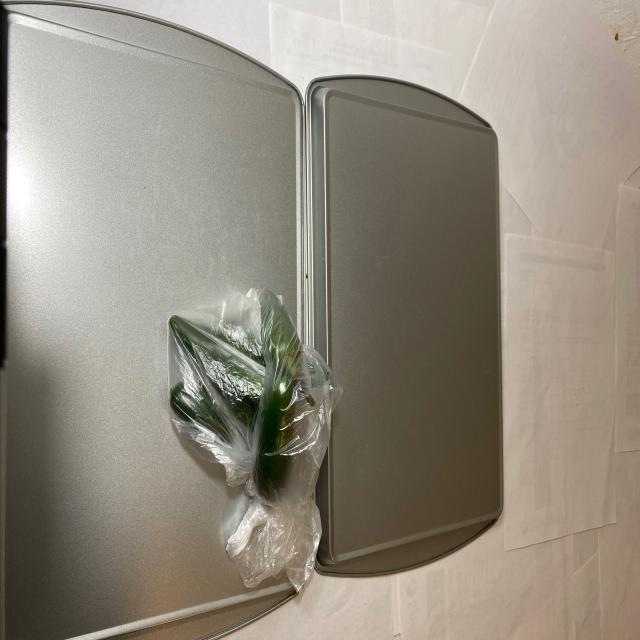chilli: (158, 287, 328, 514)
